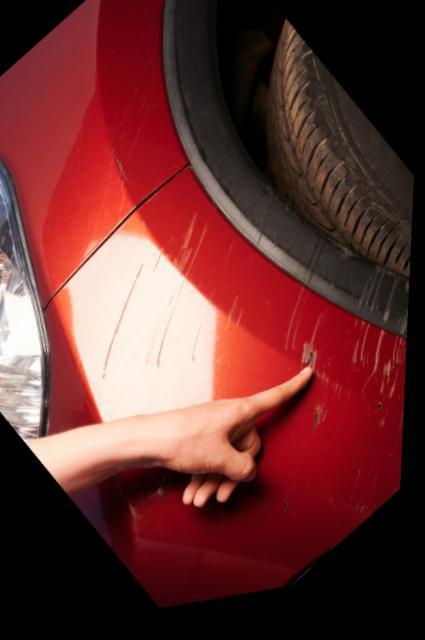scratch: (92, 220, 413, 467)
